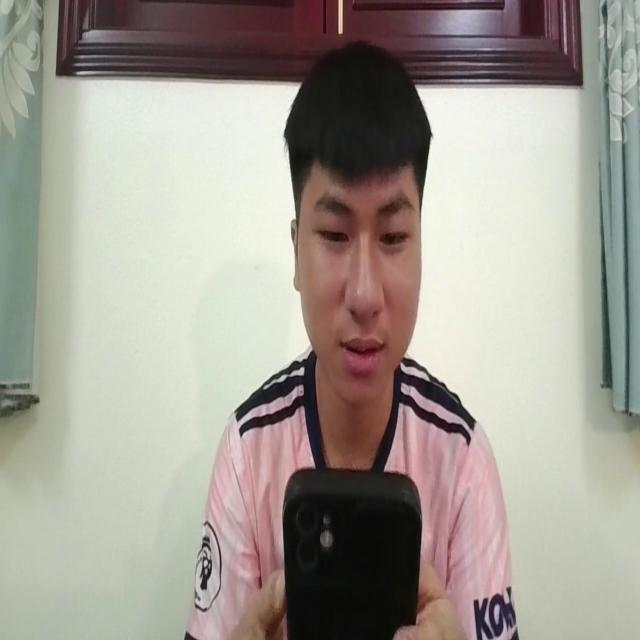phone: (283, 459, 424, 640)
student: (178, 42, 516, 640)
